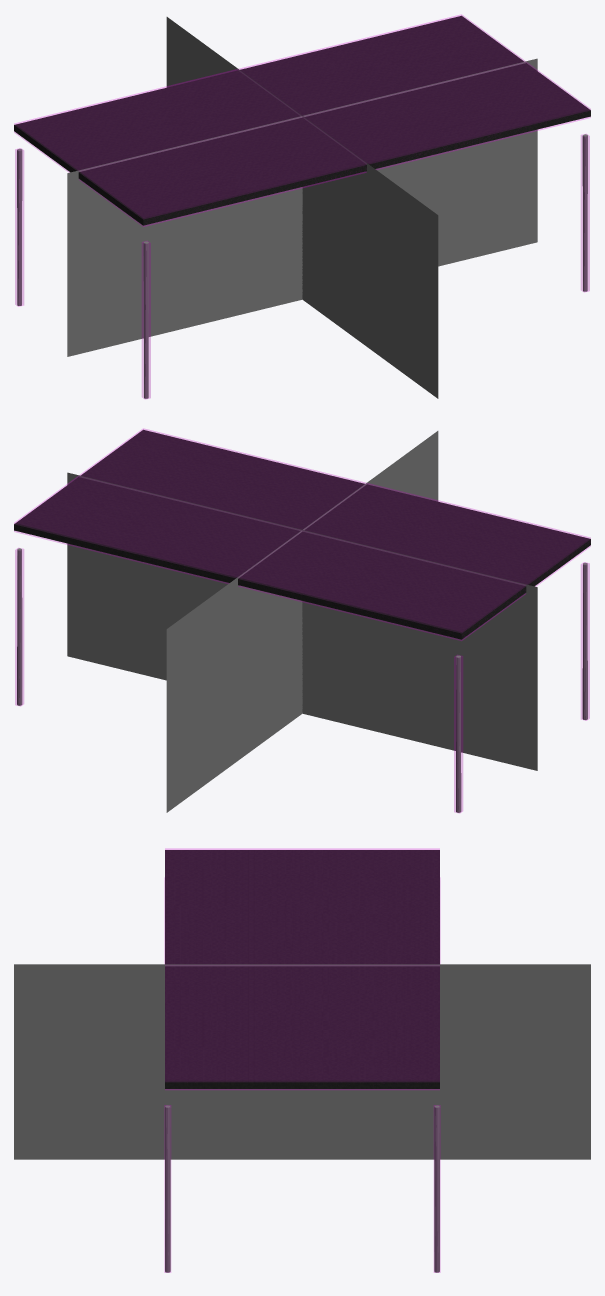
File: tent_black_6x3.dae
3 views of the same model, one above another, from view 1: azimuth 30°, elevation 25°; view 2: azimuth 150°, elevation 25°; view 3: azimuth 270°, elevation 25° (orthographic). The views are drawn at different scales.
Visible parts, largest first — view 1: tent_black_6x3_a50, tent_black_6x3_a800, Colmesh_roof-1, tent_black_6x3_a200, Colmesh_pole0-1, Colmesh_pole1-1, Colmesh_pole3-1; view 2: tent_black_6x3_a50, tent_black_6x3_a200, Colmesh_roof-1, tent_black_6x3_a800, Colmesh_pole0-1, Colmesh_pole2-1, Colmesh_pole3-1; view 3: tent_black_6x3_a50, tent_black_6x3_a800, Colmesh_roof-1, tent_black_6x3_a200, Colmesh_pole2-1, Colmesh_pole1-1.
Boxes of the visible parts, box(x1,y1,x2,y2) form: tent_black_6x3_a50: box(67, 17, 537, 398); tent_black_6x3_a800: box(14, 15, 590, 398); Colmesh_roof-1: box(14, 14, 590, 226); tent_black_6x3_a200: box(14, 16, 590, 398); Colmesh_pole0-1: box(142, 241, 150, 399); Colmesh_pole1-1: box(581, 134, 589, 292); Colmesh_pole3-1: box(15, 148, 23, 306); tent_black_6x3_a50: box(67, 431, 537, 812); tent_black_6x3_a200: box(14, 430, 590, 812); Colmesh_roof-1: box(14, 428, 590, 640); tent_black_6x3_a800: box(14, 429, 590, 812); Colmesh_pole0-1: box(581, 562, 589, 720); Colmesh_pole2-1: box(15, 548, 23, 706); Colmesh_pole3-1: box(454, 655, 462, 813); tent_black_6x3_a50: box(14, 964, 590, 1159); tent_black_6x3_a800: box(165, 850, 439, 1272); Colmesh_roof-1: box(165, 848, 439, 1089); tent_black_6x3_a200: box(165, 850, 439, 1272); Colmesh_pole2-1: box(434, 1105, 440, 1272); Colmesh_pole1-1: box(164, 1105, 170, 1272).
Bounding box in the file's own units: 6.43 × 6.43 × 2.4.
Materials: 3 (1 with a texture image).
